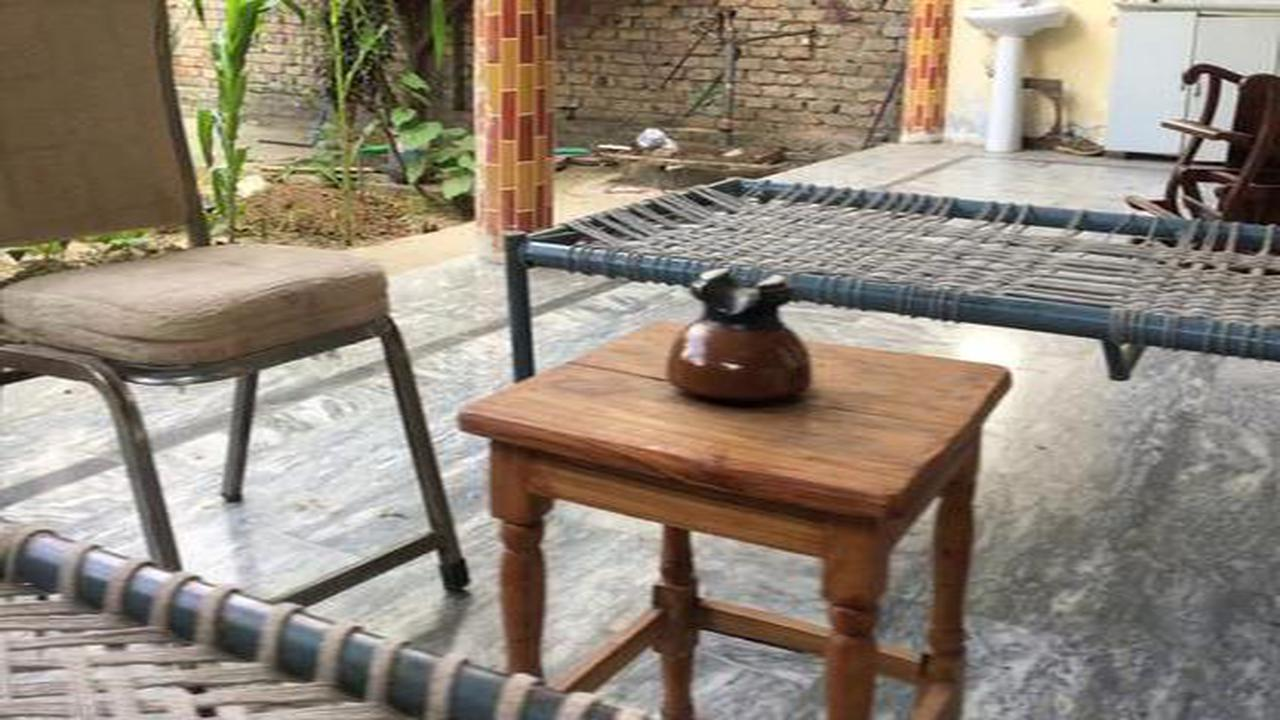insulator_pin: (647, 248, 831, 428)
